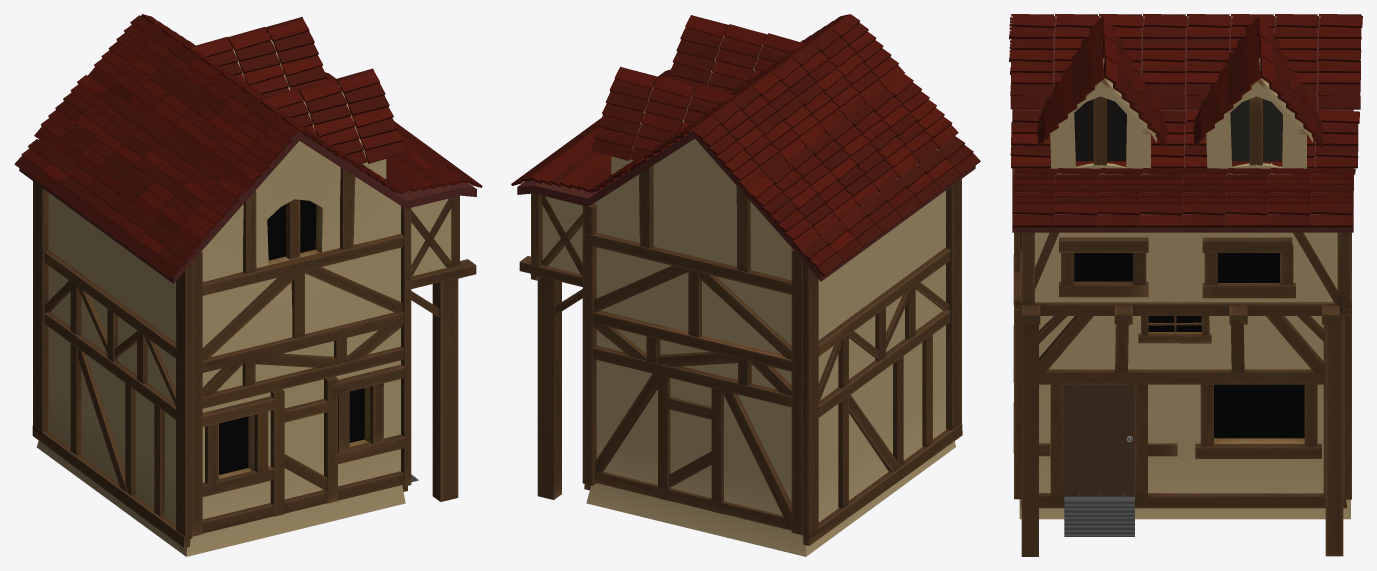
The model's file is House_Finished.fbx.
3 views of the same model, side by side, from view 1: azimuth 30°, elevation 25°; view 2: azimuth 150°, elevation 25°; view 3: azimuth 270°, elevation 25° (orthographic). The views are drawn at different scales.
Visible parts, largest first — view 1: Cube.034; view 2: Cube.034; view 3: Cube.034.
Part boxes in pixels (x1,y1,x2,y2): Cube.034: [14, 14, 482, 556]; Cube.034: [511, 14, 980, 556]; Cube.034: [1009, 14, 1362, 556].
Size of the model in its own units: 796 by 1000 by 703.
10 materials, 3 textured.
